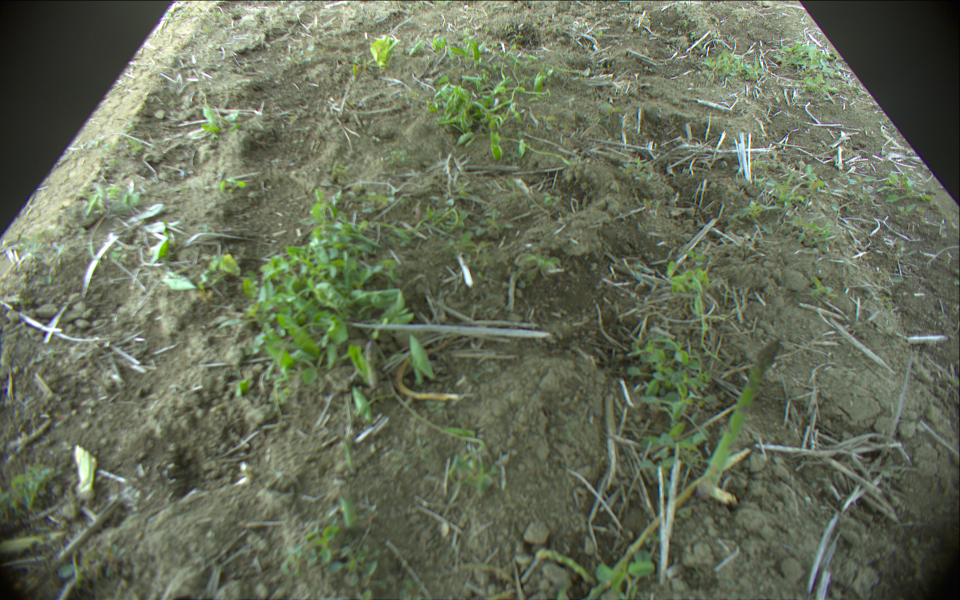aspa: (696, 339, 780, 500)
